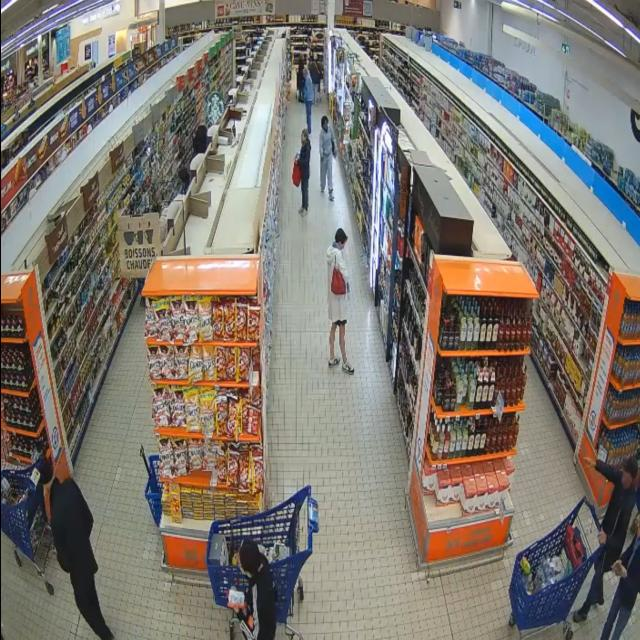article: (228, 587, 246, 607)
bags: (331, 258, 346, 295), (292, 162, 301, 187), (332, 132, 336, 156)
hands: (612, 560, 623, 576), (229, 604, 244, 613), (598, 531, 607, 544), (585, 458, 596, 468), (620, 567, 627, 578), (346, 281, 350, 293), (294, 152, 300, 160), (333, 153, 337, 159)
person: (41, 460, 113, 639), (574, 459, 638, 622), (601, 532, 639, 639), (235, 540, 276, 639), (327, 228, 354, 374), (319, 116, 336, 201), (296, 129, 311, 216)
